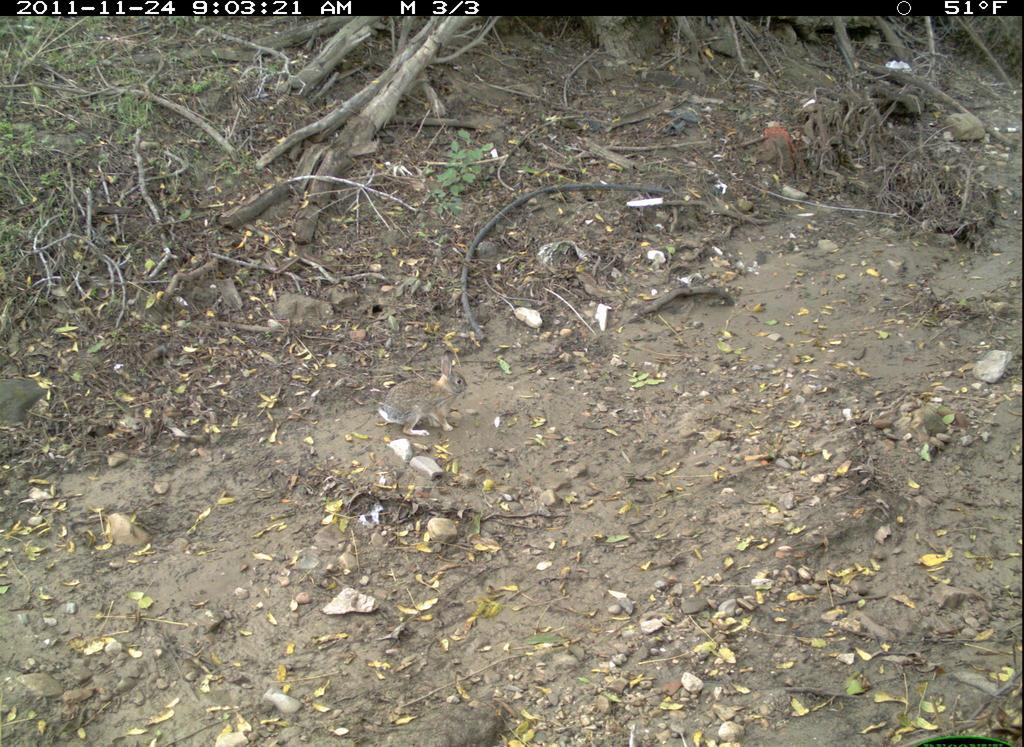rabbit: (377, 361, 489, 446)
